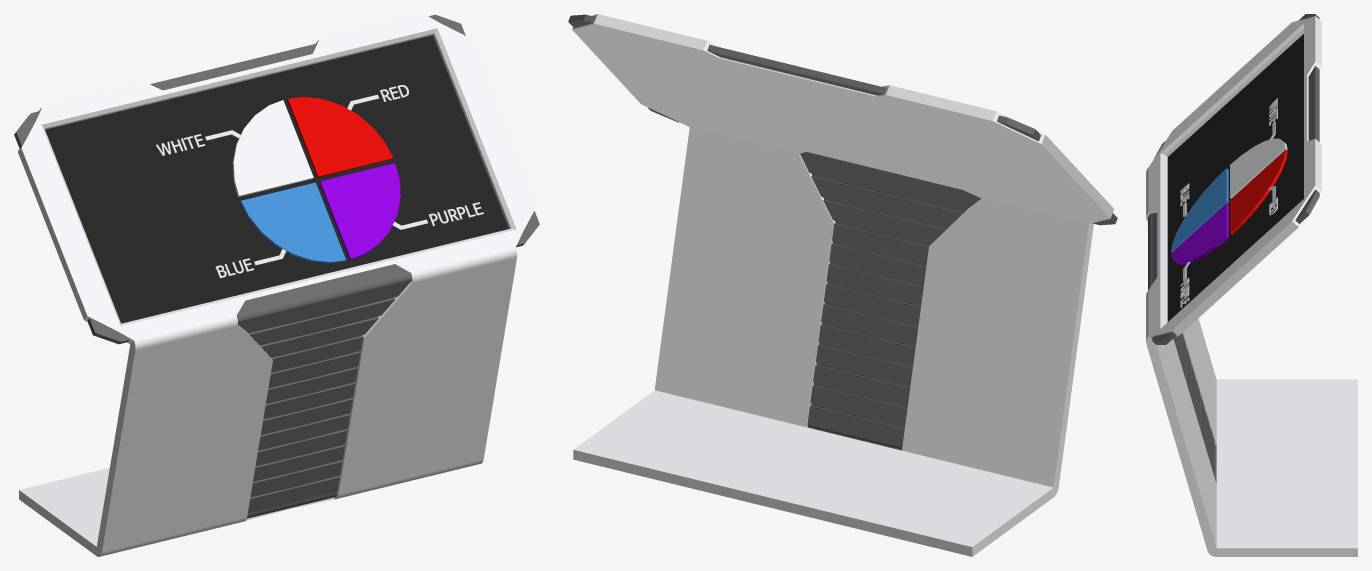
The model's file is Guide.fbx.
3 renders of one model, left to right at view 1: azimuth 30°, elevation 25°; view 2: azimuth 150°, elevation 25°; view 3: azimuth 270°, elevation 25°, orthographic. The views are drawn at different scales.
Visible parts, largest first — view 1: Color_Monitor.002; view 2: Color_Monitor.002; view 3: Color_Monitor.002.
Boxes of the visible parts, box(x1,y1,x2,y2) form: Color_Monitor.002: box(14, 14, 539, 556); Color_Monitor.002: box(568, 14, 1117, 556); Color_Monitor.002: box(1146, 14, 1357, 556).
Bounding box in the file's own units: 200 × 174 × 89.88.
